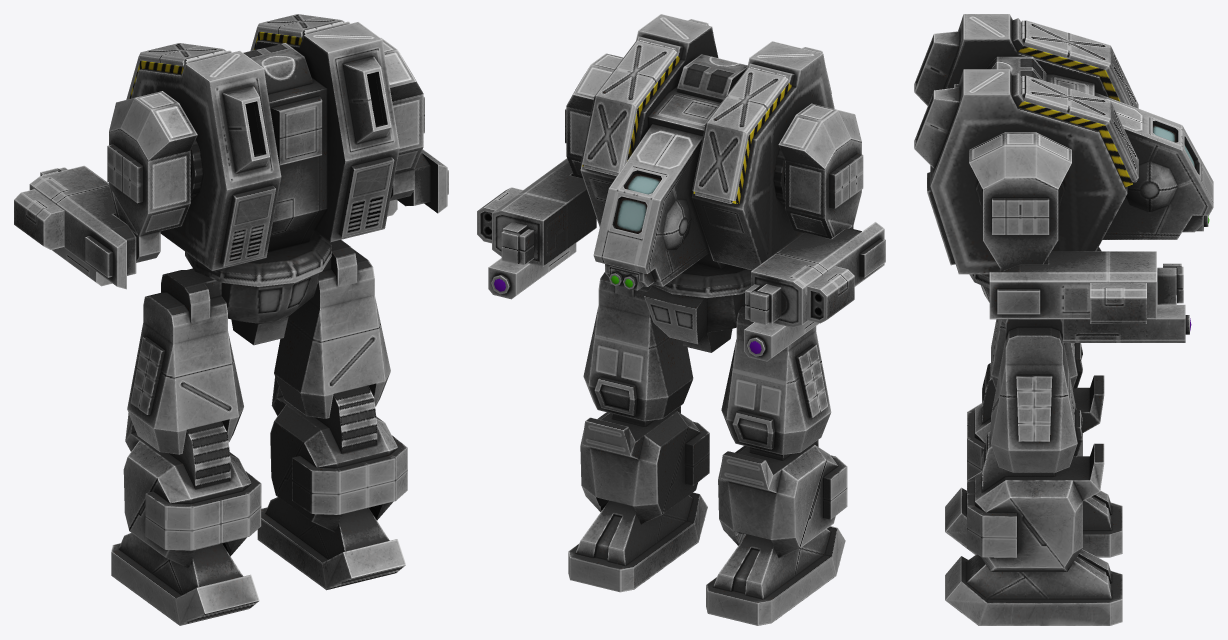
The model's file is Archer.FBX.
3 views of the same model, side by side, from view 1: azimuth 30°, elevation 25°; view 2: azimuth 150°, elevation 25°; view 3: azimuth 270°, elevation 25° (orthographic). The views are drawn at different scales.
Visible parts, largest first — view 1: torso, lupperleg, llowerleg, rlowerleg, rupperleg, lupperarm, lfoot, rfoot, pelvis, llowerarm, rupperarm, 5slauncherL (+4 smaller); view 2: torso, llowerleg, rlowerleg, rupperleg, lupperleg, lupperarm, rfoot, lfoot, pelvis, llowerarm, rlowerarm, flap_2_2 (+10 smaller); view 3: torso, rlowerleg, rupperleg, rupperarm, rfoot, rlowerarm, lfoot, LBL_r, llowerleg, flap_1_1, flap_2_1, 5slauncherR (+4 smaller).
Part boxes in pixels (x1,y1,x2,y2): torso: (129,21,399,270); lupperleg: (127,268,243,454); llowerleg: (123,413,261,568); rlowerleg: (270,377,407,532); rupperleg: (274,240,390,418); lupperarm: (107,91,197,262); lfoot: (111,533,259,625); rfoot: (257,497,405,590); pelvis: (185,231,331,345); llowerarm: (29,165,136,289); rupperarm: (381,38,424,200); 5slauncherL: (14,189,64,249); torso: (580,14,834,286); llowerleg: (718,440,847,557); rlowerleg: (580,406,709,524); rupperleg: (583,272,693,421); lupperleg: (721,293,831,454); lupperarm: (778,103,863,238); rfoot: (568,492,707,592); lfoot: (706,526,845,625); pelvis: (644,263,751,352); llowerarm: (751,222,885,327); rlowerarm: (492,158,596,266); flap_2_2: (692,123,748,203); torso: (914,14,1213,274); rlowerleg: (967,431,1104,571); rupperleg: (991,319,1082,472); rupperarm: (969,132,1071,272); rfoot: (945,549,1122,625); rlowerarm: (989,251,1156,319); lfoot: (945,487,1122,557); LBL_r: (1063,304,1191,342); llowerleg: (967,363,1104,479); flap_1_1: (1021,75,1110,124); flap_2_1: (1021,20,1110,69); 5slauncherR: (1090,283,1146,323).
Size of the model in its own units: 44.73 by 62.57 by 32.57.
1 material, 1 textured.
